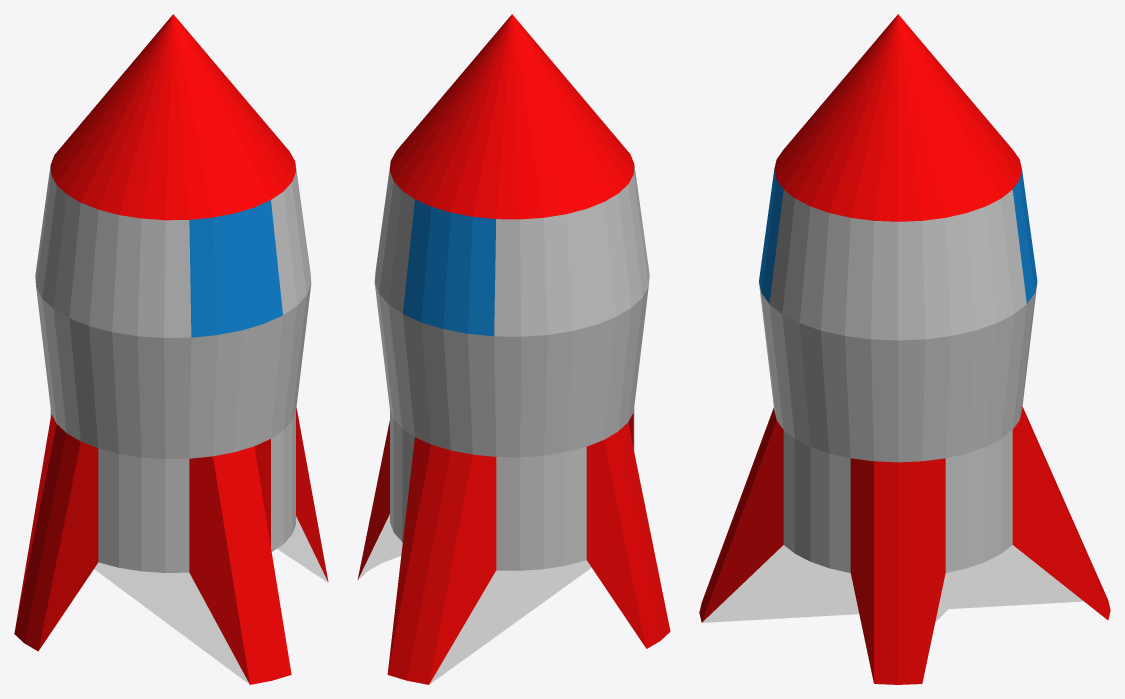
File: Rocket.fbx
3 views of the same model, side by side, from view 1: azimuth 30°, elevation 25°; view 2: azimuth 150°, elevation 25°; view 3: azimuth 270°, elevation 25° (orthographic).
Visible parts, largest first — view 1: Cylinder; view 2: Cylinder; view 3: Cylinder.
Part boxes in pixels (box(x1,y1,x2,y2)): Cylinder: box(14, 14, 328, 684); Cylinder: box(357, 14, 670, 684); Cylinder: box(699, 14, 1110, 684).
Size of the model in its own units: 183 by 354 by 220.
